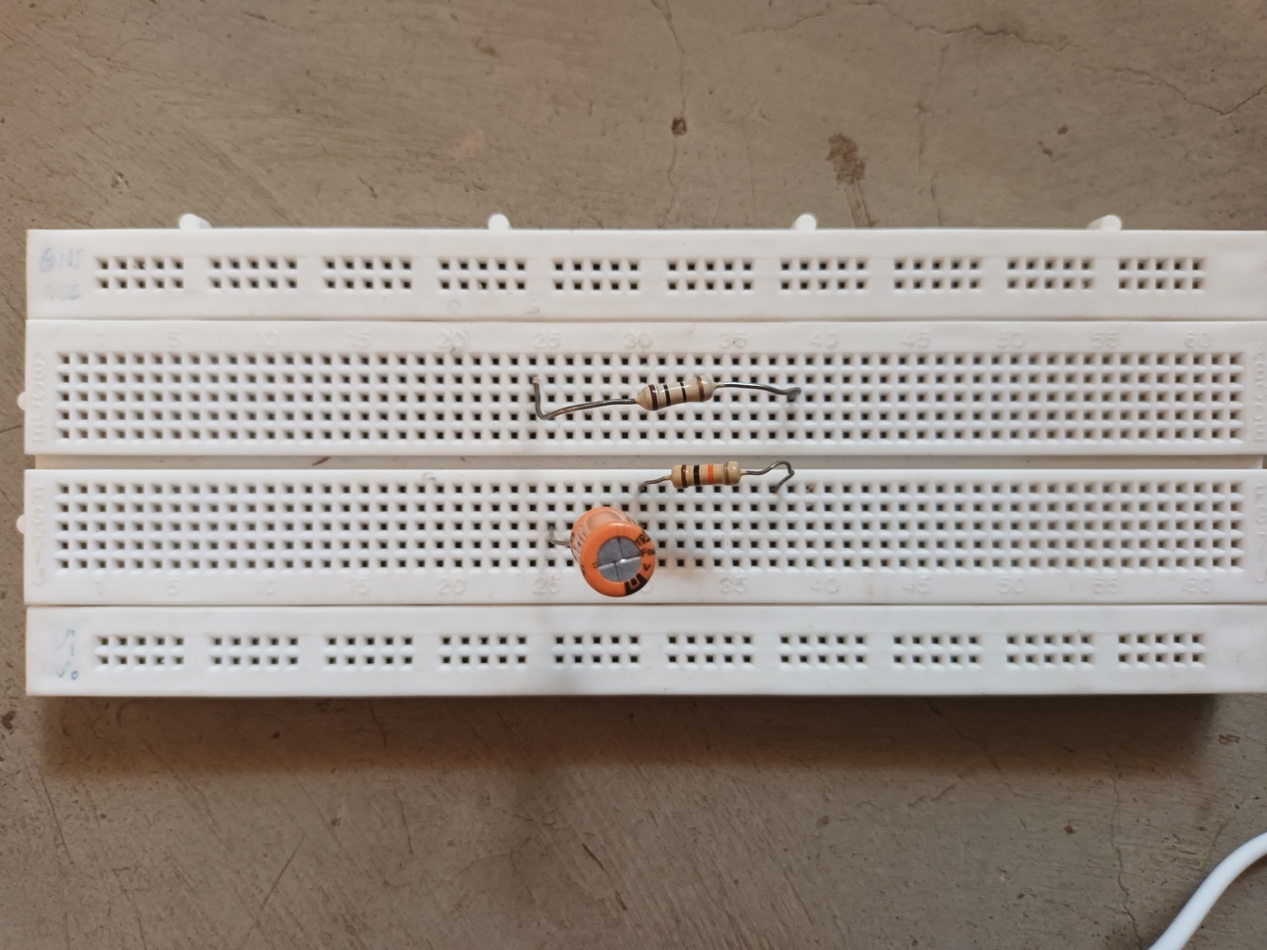capacitor: (567, 510, 658, 600)
resistor: (636, 377, 718, 413), (669, 463, 746, 484)
